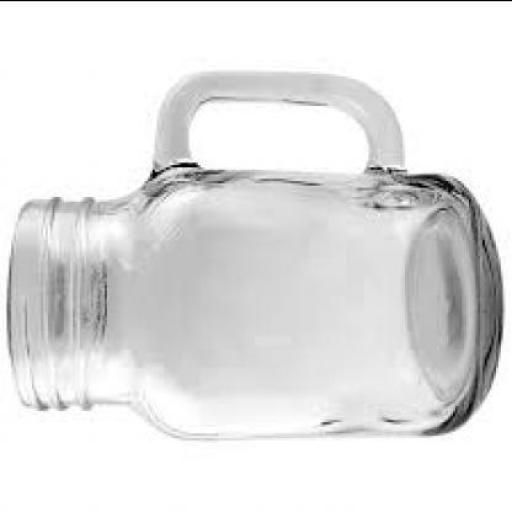glass: (5, 72, 498, 442)
